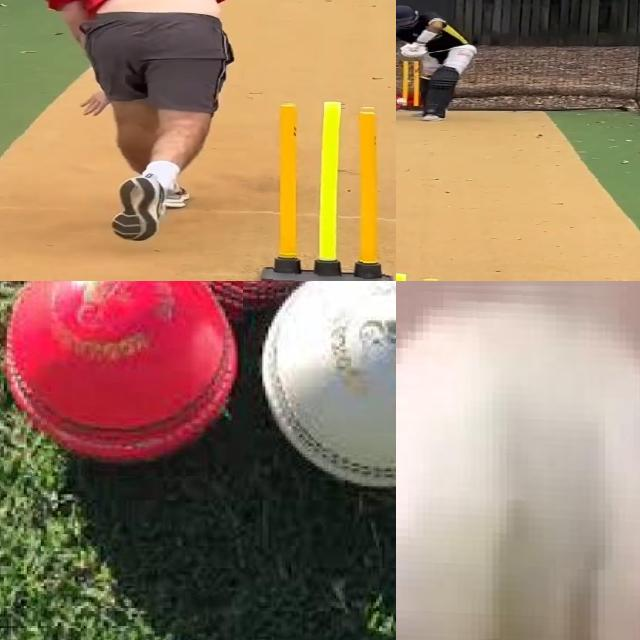Cricket ball: (396, 281, 640, 640), (0, 281, 243, 475), (252, 281, 396, 491), (396, 98, 407, 105)
Stumps: (260, 102, 396, 281)
